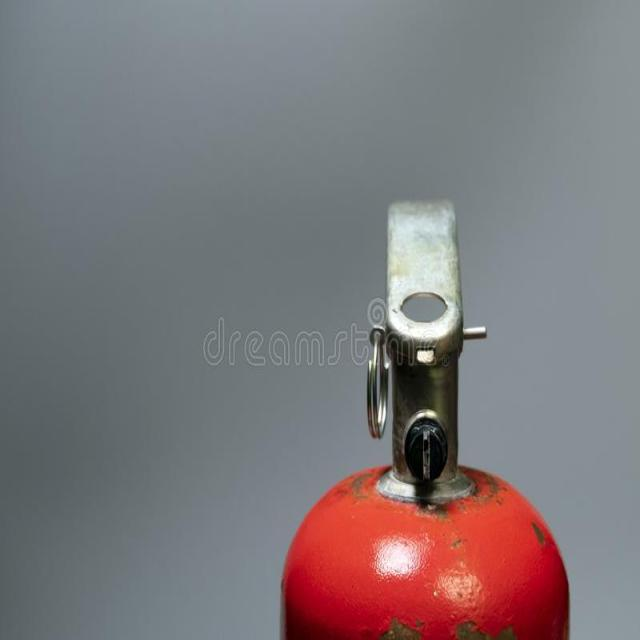fire_extinguisher: (274, 182, 573, 639)
